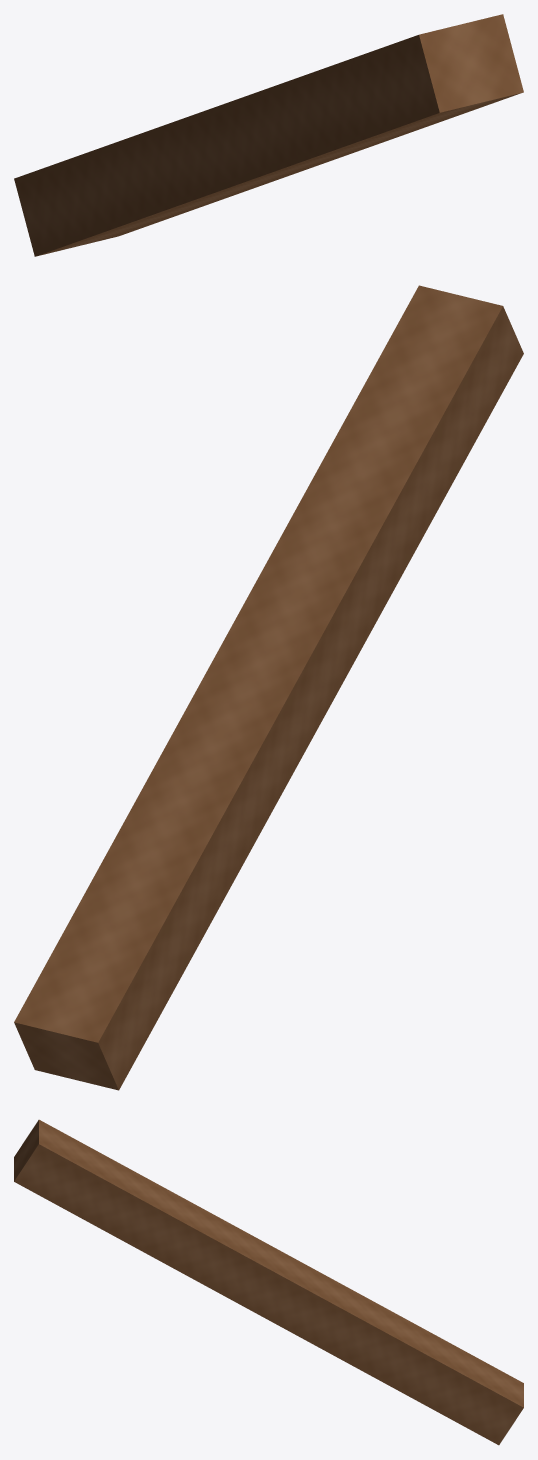
File: MRP_BalconyBrace_1x0p6m.fbx
3 views of the same model, one above another, from view 1: azimuth 30°, elevation 25°; view 2: azimuth 150°, elevation 25°; view 3: azimuth 270°, elevation 25° (orthographic). The views are drawn at different scales.
Parts seen in each view (by area): view 1: Body; view 2: Body; view 3: Body.
Boxes of the visible parts, box(x1,y1,x2,y2) form: Body: box(14, 14, 523, 256); Body: box(14, 285, 523, 1090); Body: box(14, 1119, 523, 1445).
Bounding box in the file's own units: 0.12 × 0.6857 × 1.05.
